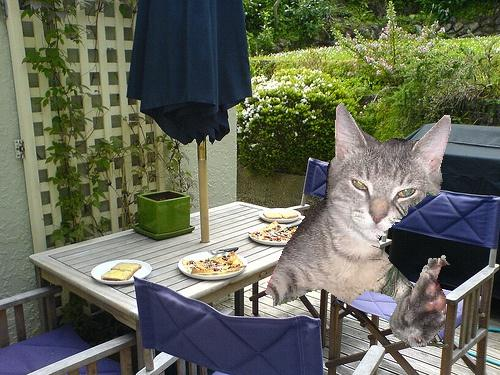tampered: (266, 103, 451, 347)
